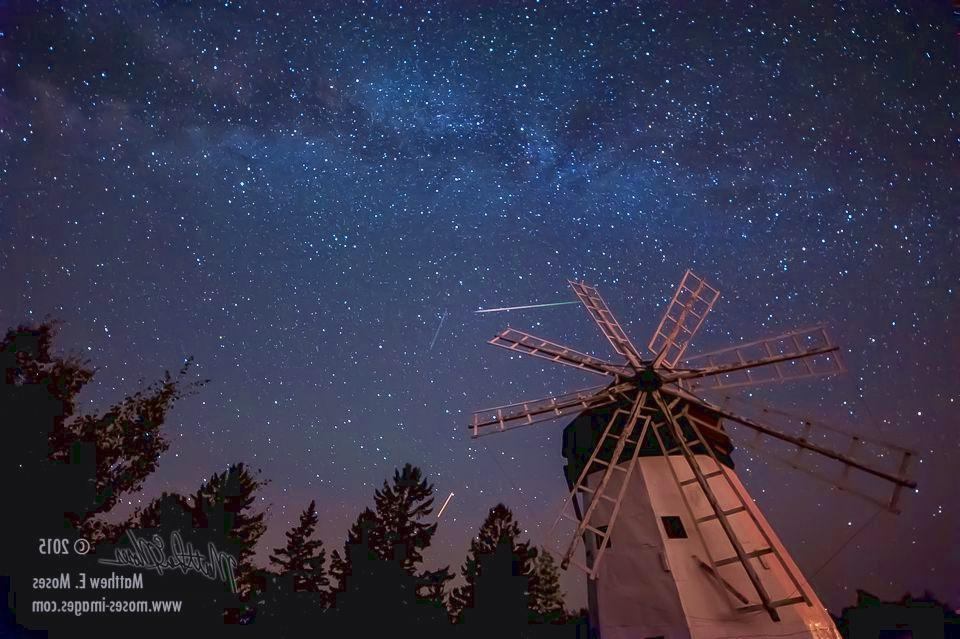meteorite: (414, 298, 464, 368), (462, 297, 601, 317), (429, 487, 467, 519)
